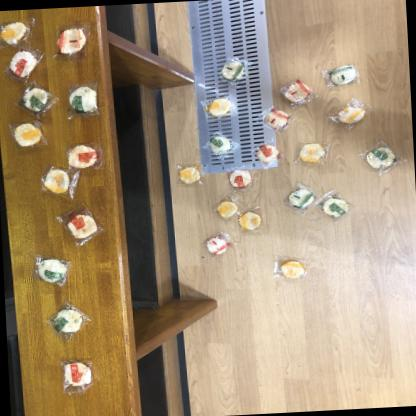green_setoshio: (45, 299, 92, 340), (60, 78, 102, 118), (31, 252, 74, 288), (360, 140, 401, 176), (11, 82, 53, 114), (316, 189, 353, 224), (320, 61, 361, 88), (281, 182, 317, 212), (203, 130, 236, 159), (216, 57, 250, 83)
red_setoshio: (57, 204, 104, 250), (48, 20, 90, 61), (55, 355, 92, 397), (273, 74, 317, 107), (1, 45, 40, 80), (63, 138, 102, 172), (199, 228, 231, 260), (257, 103, 290, 134), (224, 166, 256, 194), (252, 140, 284, 166)
yellow_setoshio: (3, 118, 47, 154), (329, 97, 369, 133), (290, 134, 330, 170), (35, 166, 78, 199), (0, 12, 34, 51), (209, 187, 242, 223), (170, 158, 206, 188), (271, 254, 306, 281), (202, 95, 233, 122), (236, 206, 263, 236)
